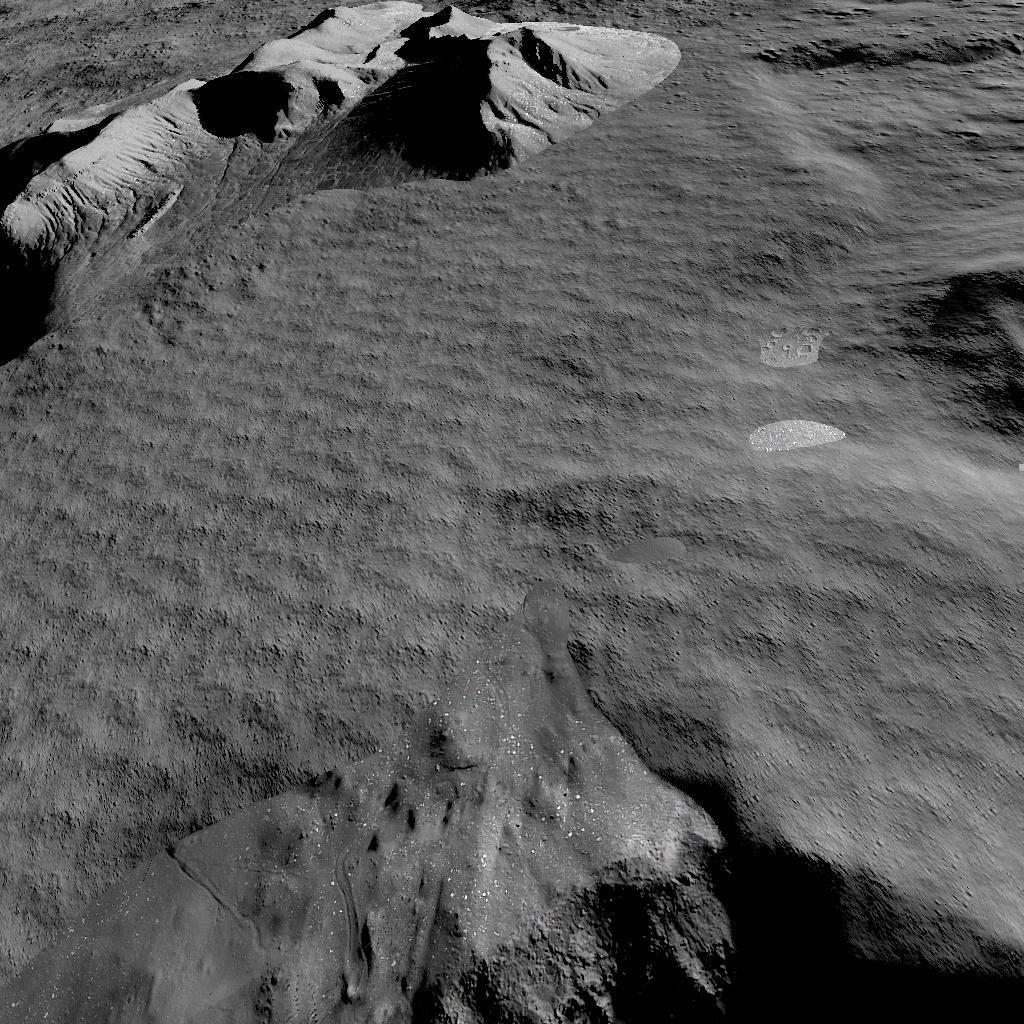Boulders: (0, 0, 683, 370)
Crater: (0, 742, 1024, 1024), (921, 258, 1024, 456)
Plan surface: (0, 385, 908, 728)
